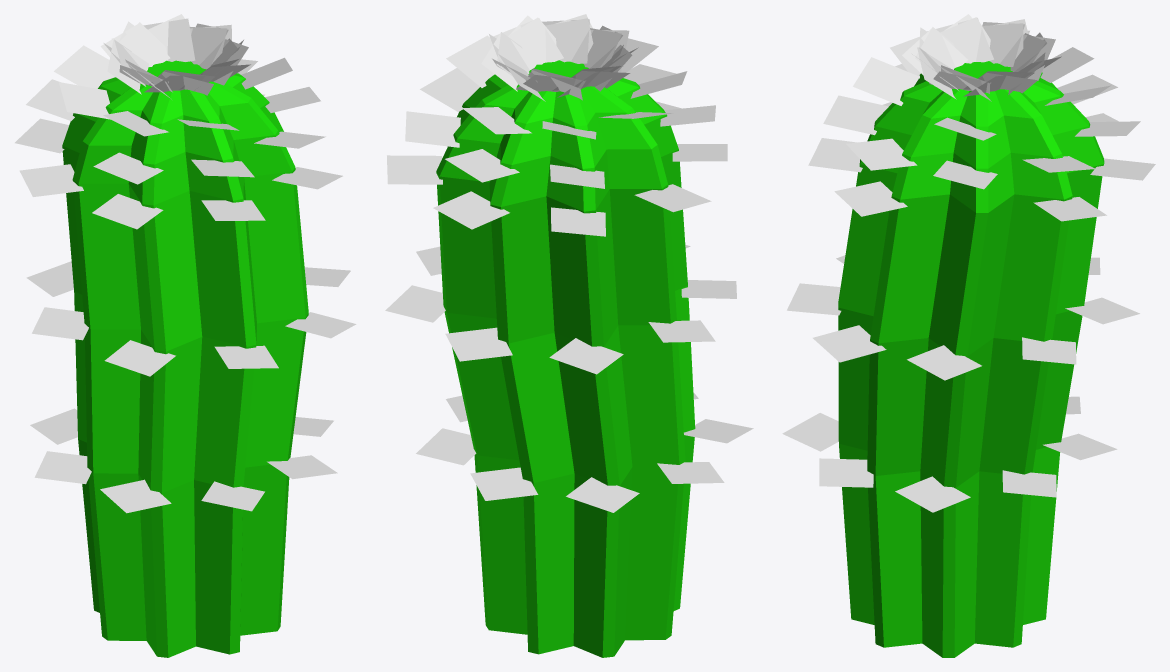
Rendered from Cactus.fbx.
3 renders of one model, left to right at view 1: azimuth 30°, elevation 25°; view 2: azimuth 150°, elevation 25°; view 3: azimuth 270°, elevation 25°, orthographic. The views are drawn at different scales.
Parts seen in each view (by area): view 1: Kaktus_1.001; view 2: Kaktus_1.001; view 3: Kaktus_1.001.
Boxes of the visible parts, x1,y1,x2,y2 form: Kaktus_1.001: (15,14,356,657); Kaktus_1.001: (385,14,753,657); Kaktus_1.001: (782,14,1155,657).
Size of the model in its own units: 61.11 by 107 by 62.98.
